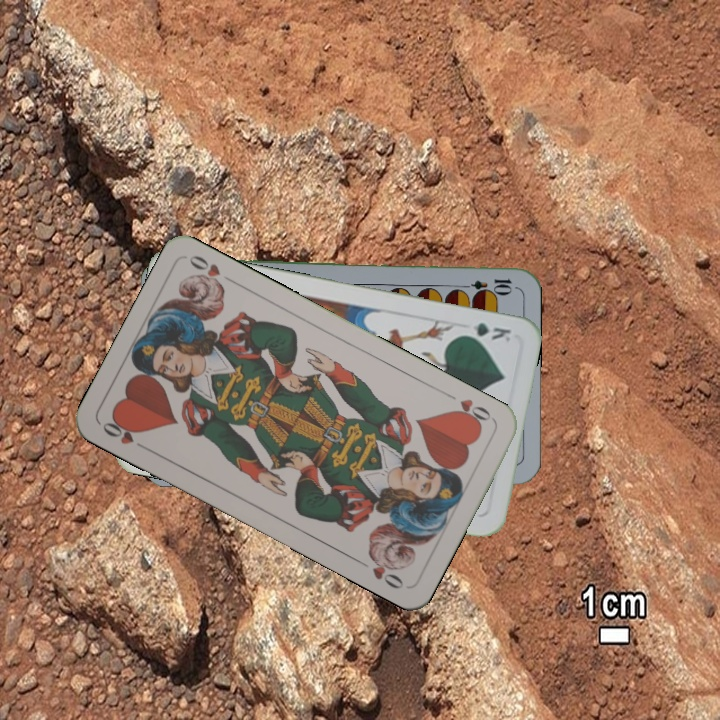E10: (456, 275, 515, 293)
GK: (456, 318, 514, 344)
HO: (442, 388, 496, 430), (98, 413, 152, 453)
